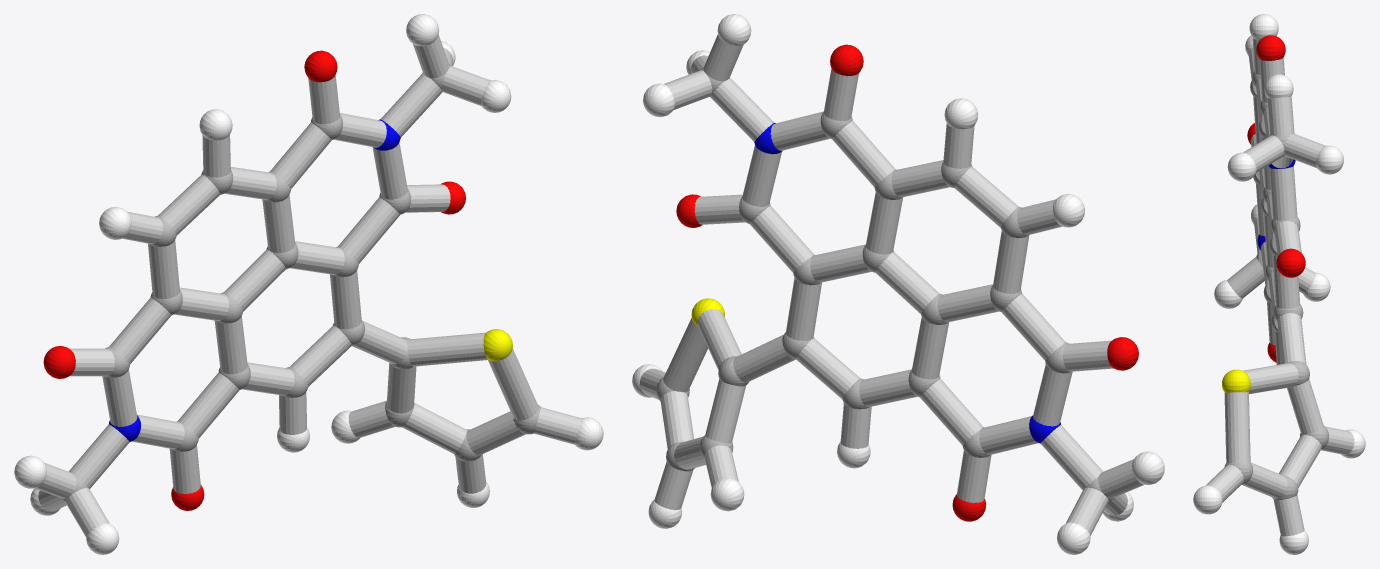
File: Dimethyl_Naphthalene_Dicarboximide_Phi_25_Theta_220_Thiophene.glb
3 views of the same model, side by side, from view 1: azimuth 30°, elevation 25°; view 2: azimuth 150°, elevation 25°; view 3: azimuth 270°, elevation 25° (orthographic). The views are drawn at different scales.
Parts seen in each view (by area): view 1: grp14119, grp7241, grp1, grp12309, grp13757, grp11585; view 2: grp14119, grp7241, grp1, grp12309, grp11585; view 3: grp14119, grp7241, grp1, grp12309, grp13757.
Boxes of the visible parts, x1,y1,x2,y2 form: grp14119: (35, 35, 581, 537); grp7241: (14, 14, 603, 554); grp1: (60, 63, 540, 502); grp12309: (43, 50, 465, 510); grp13757: (483, 329, 512, 361); grp11585: (109, 119, 400, 441); grp14119: (639, 34, 1144, 535); grp7241: (632, 14, 1164, 554); grp1: (656, 67, 1112, 502); grp12309: (676, 44, 1138, 521); grp11585: (754, 122, 1060, 443); grp14119: (1206, 38, 1354, 536); grp7241: (1193, 14, 1365, 554); grp1: (1224, 71, 1328, 500); grp12309: (1247, 35, 1305, 362); grp13757: (1222, 369, 1250, 392).
Size of the model in its own units: 11.54 by 10.21 by 3.53.
